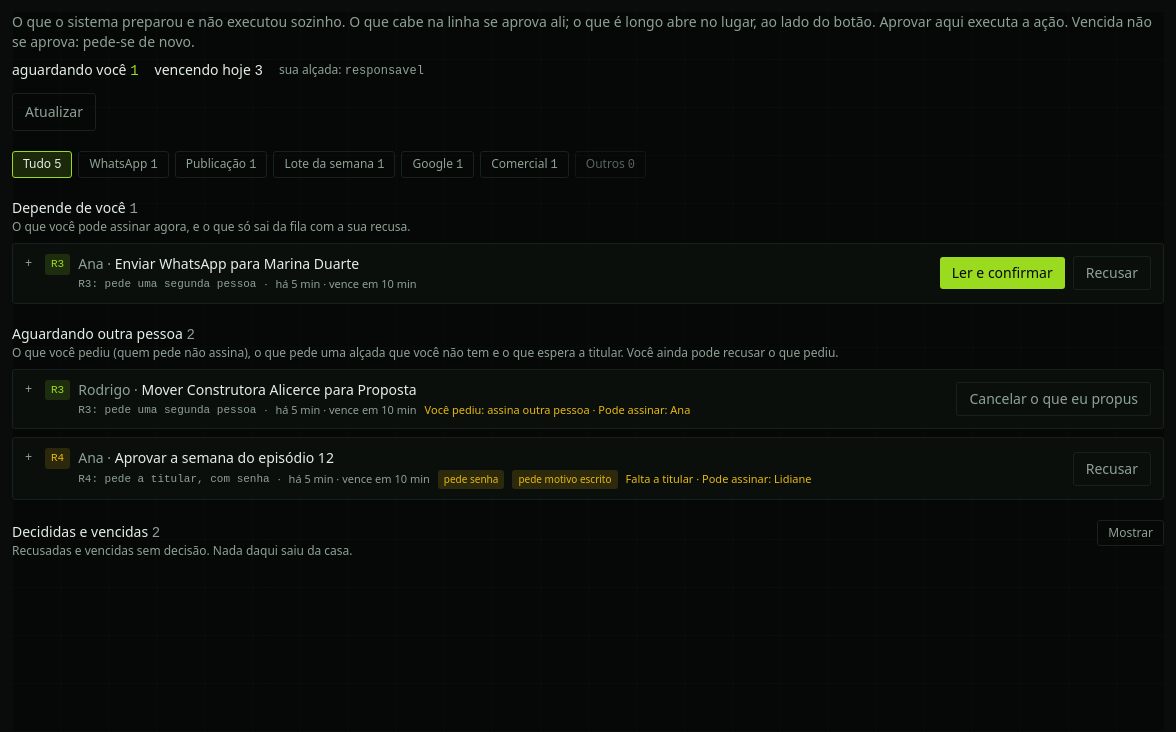
Test case: P4: contadores e filtro › filtrar por tipo grava na query, esconde os outros e não mexe nos contadores
The width and height of the screenshot is (1176, 732).
Click the button with test id "aprov-filtro-lote": (334, 164) [274, 151, 396, 178]
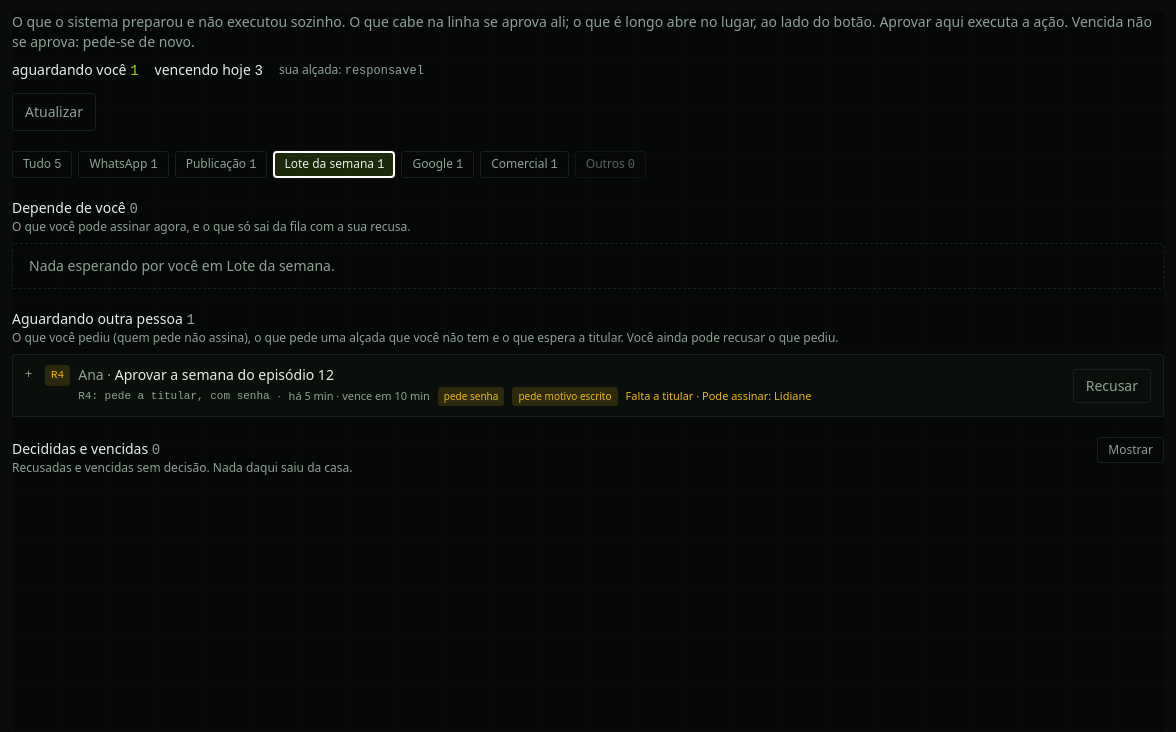
Check: the element with test id "aprov-item-ap-lote" is shown, box [12, 354, 1164, 417]
Check: the element with test id "aprov-item-ap-zap" is gone
Check: the text with test id "aprov-vazio-voce" reads "Nada esperando por você em Lote da semana.", box [29, 256, 335, 275]
Click the button with test id "aprov-filtro-todos": (42, 164) [12, 151, 72, 178]
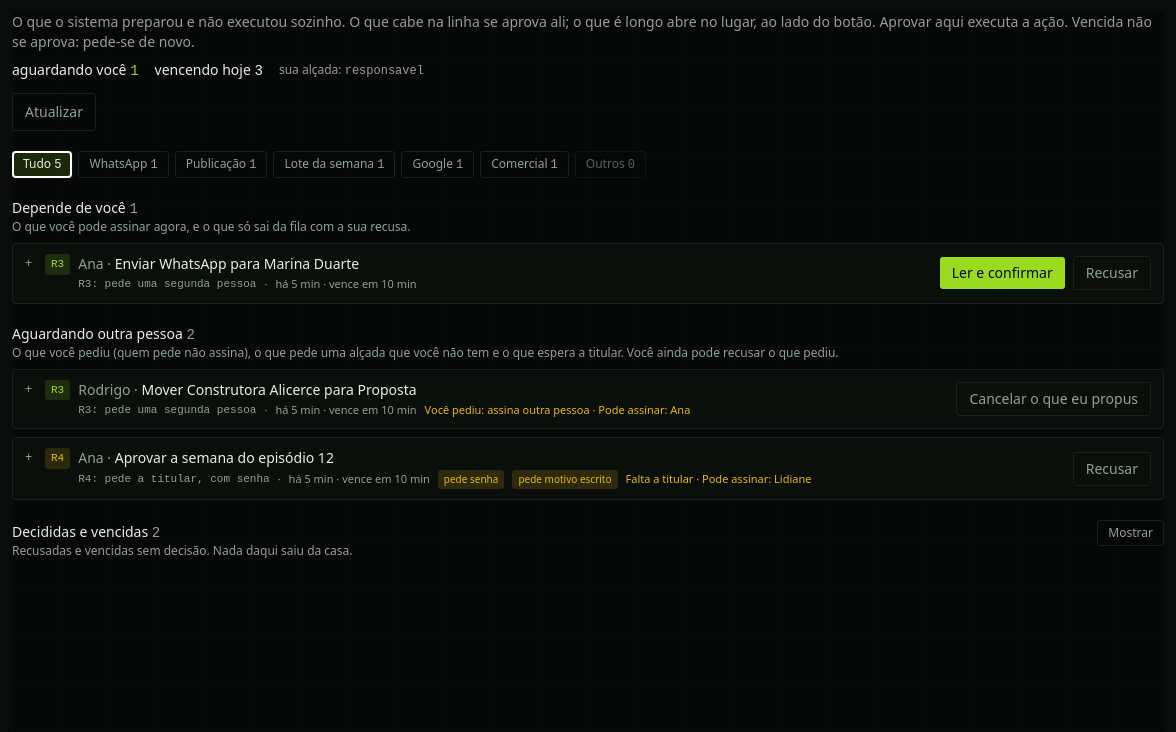
Check: the element with test id "aprov-item-ap-zap" is shown, box [12, 243, 1164, 304]
